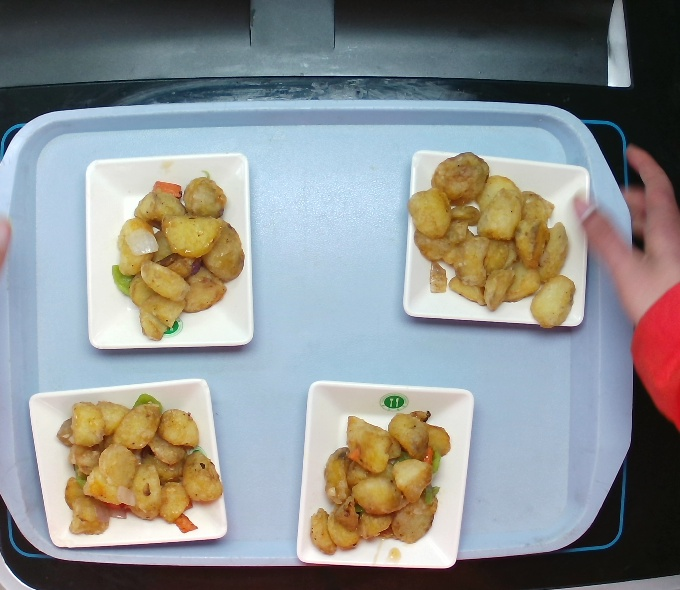wcq-TuDouZai: (410, 143, 583, 326), (54, 390, 215, 539), (305, 400, 454, 560), (106, 176, 238, 323)
